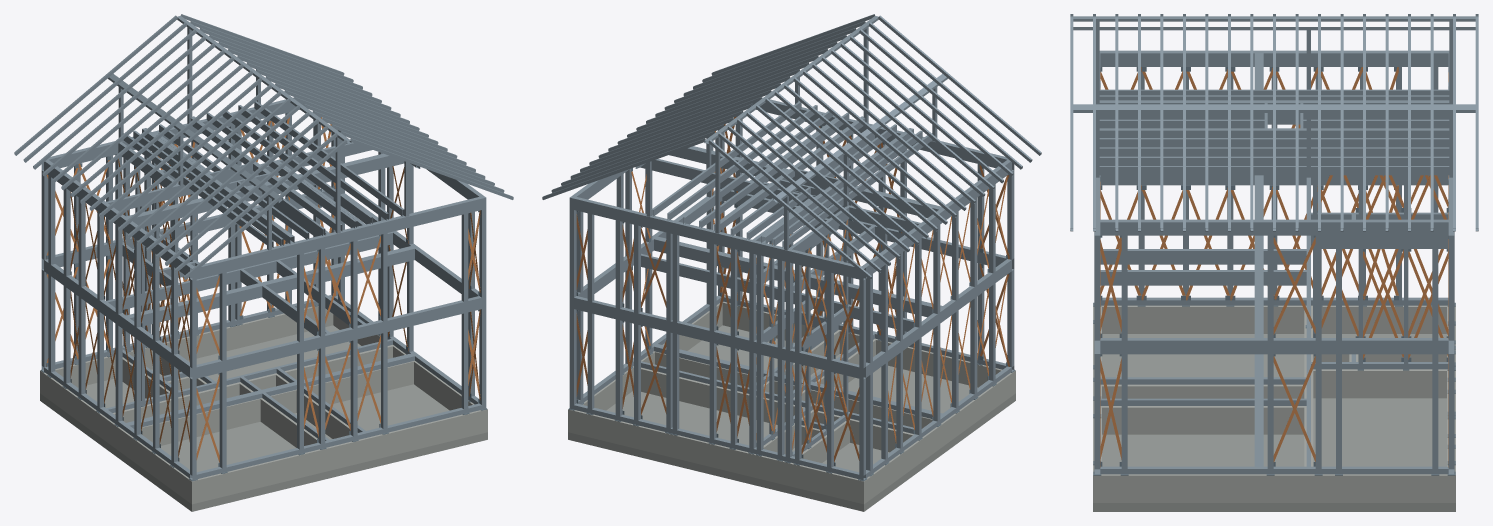
File: structure_S.glb
3 renders of one model, left to right at view 1: azimuth 30°, elevation 25°; view 2: azimuth 150°, elevation 25°; view 3: azimuth 270°, elevation 25°, orthographic. The views are drawn at different scales.
Visible parts, largest first — view 1: foundation:stem_walls:perimeter, foundation:raft:slab, structure:F1:beam_B01, structure:F2:beam_B01, foundation:internal_supports:I01, structure:F1:beam_B05, structure:F1:beam_B06, foundation:internal_supports:I02, structure:F1:beam_B04, structure:F1:sill_B01, structure:F2:beam_B05, structure:F1:sill_B05 (+97 smaller); view 2: foundation:stem_walls:perimeter, foundation:raft:slab, structure:F2:beam_B02, structure:F1:beam_B02, foundation:internal_supports:I02, structure:F1:beam_B05, structure:F1:beam_B04, structure:F1:sill_B02, structure:F1:beam_B06, foundation:internal_supports:I01, structure:F2:beam_B06, structure:F2:beam_B04 (+108 smaller); view 3: foundation:raft:slab, foundation:stem_walls:perimeter, structure:F1:beam_B03, structure:F2:beam_B03, structure:F2:beam_B04, foundation:internal_supports:I06, foundation:internal_supports:I03, structure:roof:purlin_east, structure:attic:joist_J03, structure:attic:trimmer_east, structure:attic:joist_J01, structure:attic:joist_J02 (+62 smaller).
Part boxes in pixels (x1,y1,x2,y2): foundation:stem_walls:perimeter: (40, 306, 487, 504); foundation:raft:slab: (40, 325, 487, 511); structure:F1:beam_B01: (190, 296, 486, 379); structure:F2:beam_B01: (190, 195, 486, 280); foundation:internal_supports:I01: (141, 361, 413, 445); structure:F1:beam_B05: (126, 246, 414, 326); structure:F1:beam_B06: (106, 232, 392, 309); foundation:internal_supports:I02: (113, 345, 392, 422); structure:F1:beam_B04: (44, 259, 189, 377); structure:F1:sill_B01: (190, 403, 486, 480); structure:F2:beam_B05: (126, 153, 404, 227); structure:F1:sill_B05: (126, 353, 414, 428); foundation:stem_walls:perimeter: (568, 301, 1015, 504); foundation:raft:slab: (568, 325, 1015, 511); structure:F2:beam_B02: (569, 195, 865, 280); structure:F1:beam_B02: (569, 296, 865, 379); foundation:internal_supports:I02: (641, 367, 913, 452); structure:F1:beam_B05: (654, 236, 942, 317); structure:F1:beam_B04: (866, 259, 1011, 377); structure:F1:sill_B02: (569, 403, 865, 480); structure:F1:beam_B06: (641, 253, 914, 331); foundation:internal_supports:I01: (655, 351, 932, 428); structure:F2:beam_B06: (640, 159, 920, 232); structure:F2:beam_B04: (862, 160, 1011, 278); foundation:raft:slab: (1093, 334, 1455, 511); foundation:stem_walls:perimeter: (1093, 303, 1455, 502); structure:F1:beam_B03: (1100, 338, 1448, 354); structure:F2:beam_B03: (1100, 219, 1448, 235); structure:F2:beam_B04: (1100, 50, 1448, 66); foundation:internal_supports:I06: (1102, 406, 1304, 434); foundation:internal_supports:I03: (1313, 369, 1446, 398); structure:roof:purlin_east: (1073, 104, 1475, 112); structure:attic:joist_J03: (1099, 147, 1449, 156); structure:attic:trimmer_east: (1099, 128, 1449, 137); structure:attic:joist_J01: (1099, 166, 1449, 175); structure:attic:joist_J02: (1099, 156, 1449, 165).
Size of the model in its own units: 9.09 by 9.07 by 8.18.
